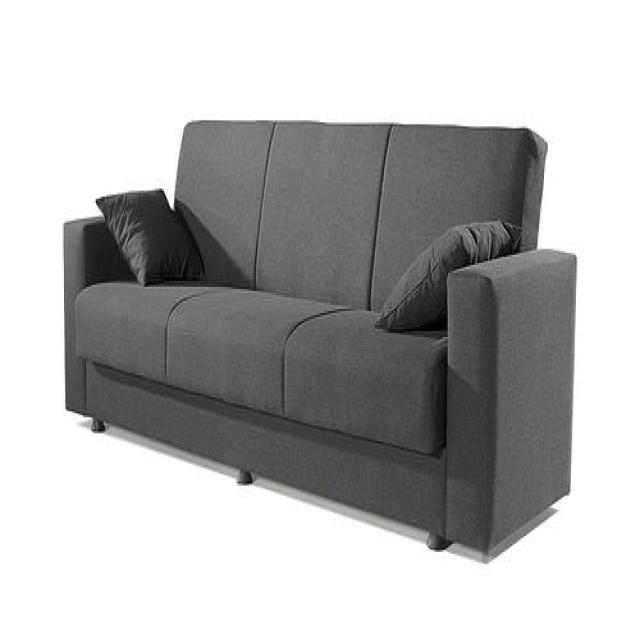sofa: (62, 115, 580, 568)
